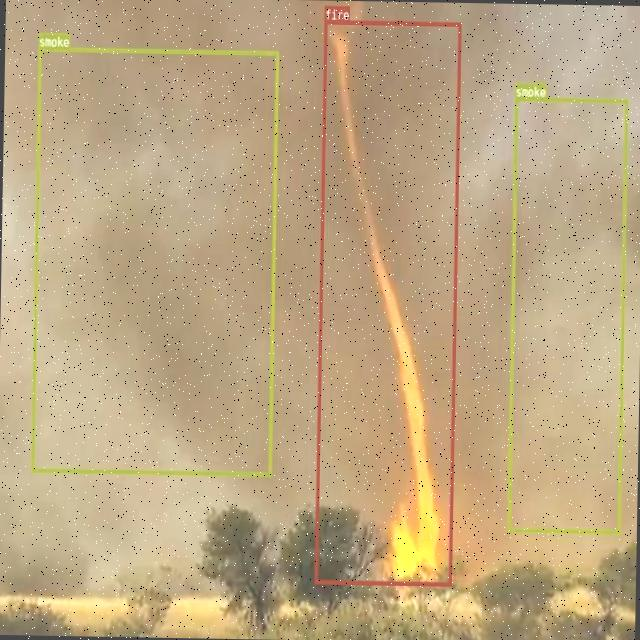fire: (314, 19, 461, 585)
smoke: (30, 46, 278, 475), (507, 96, 628, 533)
